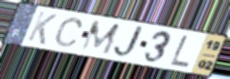3: (142, 29, 176, 66)
C: (52, 17, 85, 48)
J: (112, 25, 148, 60)
K: (25, 10, 59, 47)
L: (168, 34, 192, 69)
M: (78, 20, 123, 56)
